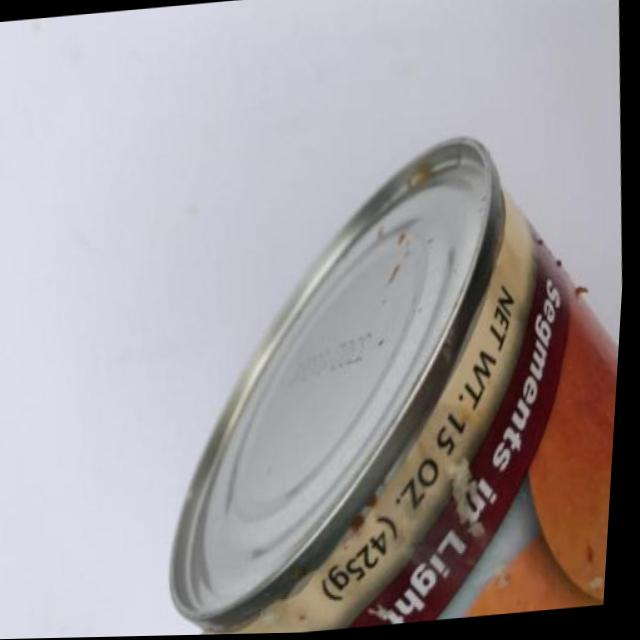metal: (171, 139, 614, 631)
